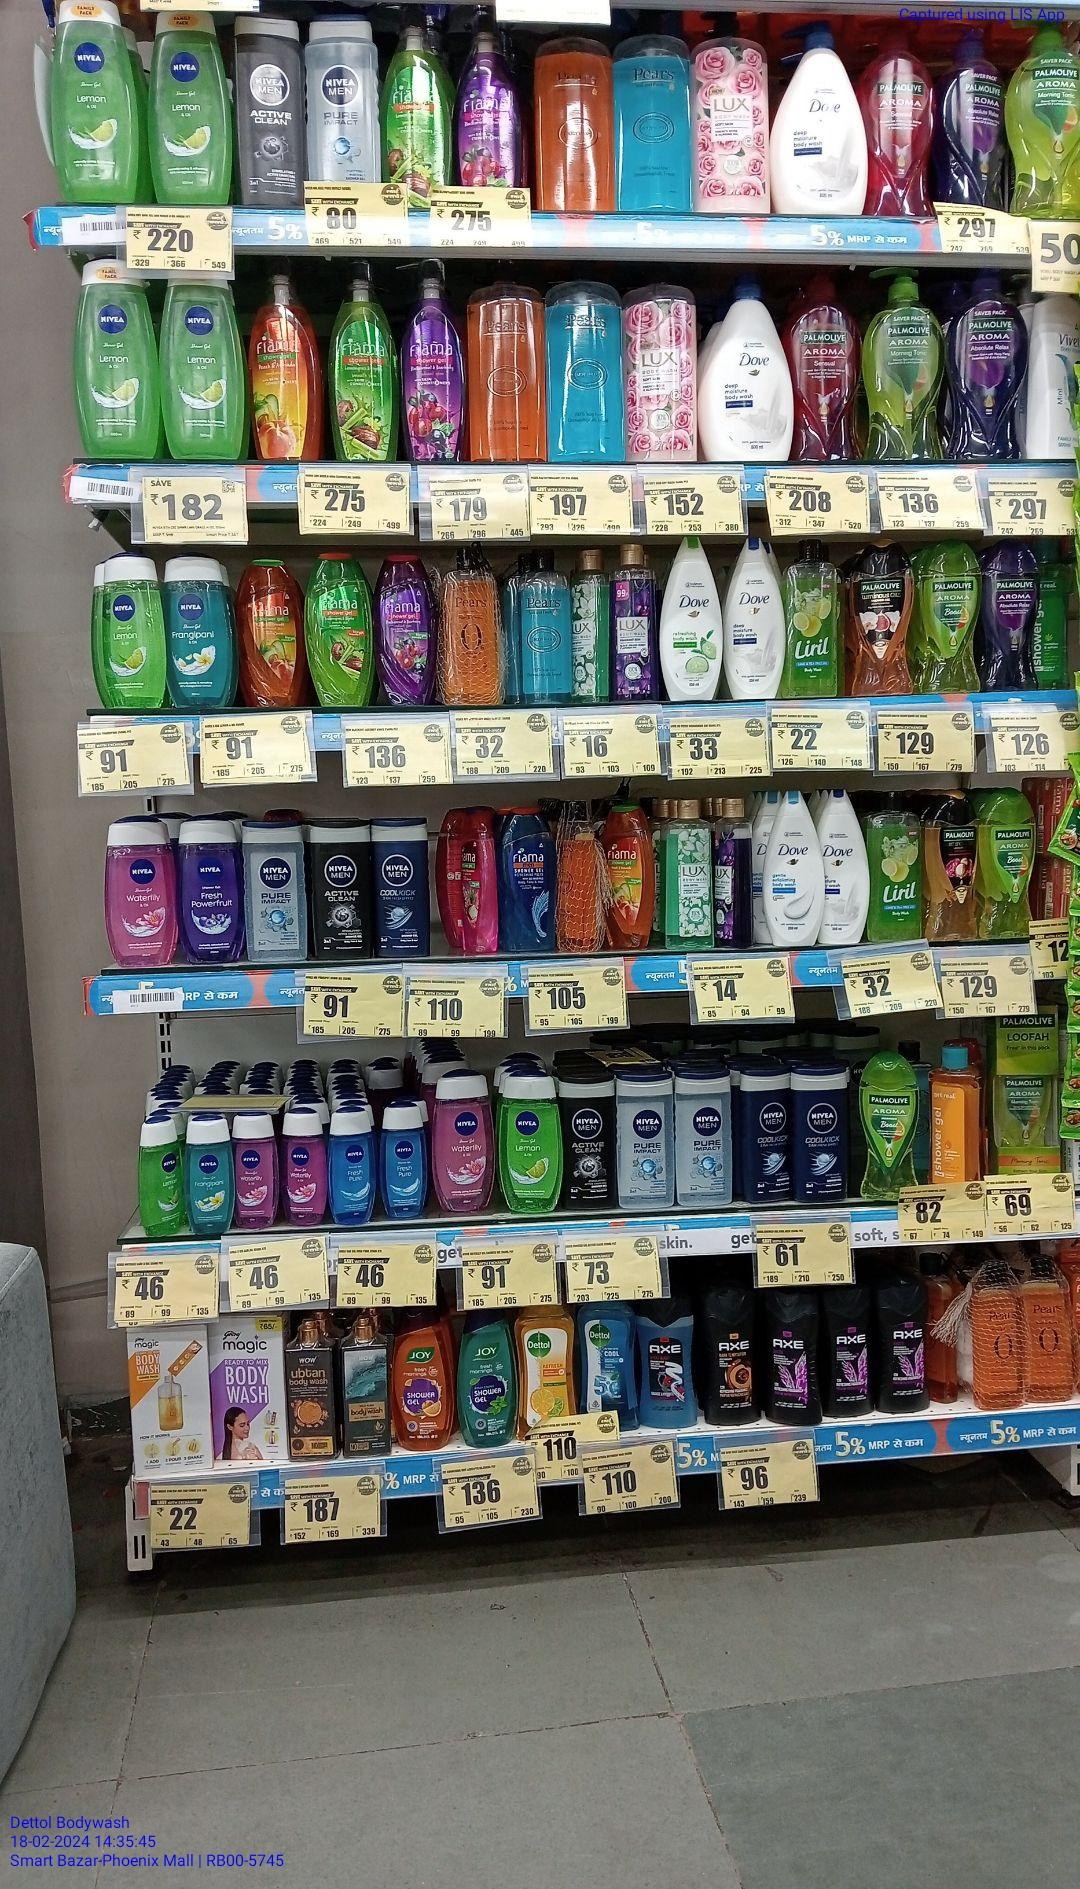Dettol_Bodywash_Cool: (576, 1303, 640, 1432)
Dettol_Bodywash_Refresh: (521, 1304, 574, 1428)
Dove_Deep_Moisture_Body_Wash_250ML: (726, 535, 784, 699)
Dove_Gentle_Exfoliating_Body_Wash_250ML: (765, 782, 824, 947)
Dove_Refreshing_Body_Wash_250ML: (661, 532, 723, 702)
Fiama_Shower_Gel_Lemongrass_and_Jojoba_250ML: (308, 553, 373, 704)
Fiama_Shower_Gel_Peach_and_Avocado_250ML: (235, 560, 302, 712), (601, 804, 650, 950)
Joy_Shower_Gel_Mandarin_and_Lemongrass_250ML: (393, 1309, 450, 1453)
Joy_Shower_Gel_Mint_and_Eucalyptus_250ML: (458, 1312, 515, 1449)
Liril_Cooling_Mint_Body_Wash_250ML: (872, 793, 920, 943)
Liril_Lime_and_Tea_Tree_Oil_Body_Wash_250ML: (788, 541, 835, 697)
Lux_Black_Orchid_Scent_and_Juniper_Oil_Body_Wash_245ML: (613, 542, 654, 699), (720, 793, 754, 948)
Lux_Body_Wash_Skin_Detox_Freesia_Scent_and_Alove_Vera_245ML: (665, 797, 718, 950), (576, 545, 607, 703)
Nivea_Shower_Gel_Frangipani_and_Oil_250ML: (170, 553, 232, 706)
Nivea_Shower_Gel_Fresh_Powerfruit_250ML: (178, 817, 241, 967)
Nivea_Shower_Gel_Lemon_and_Oil_250ML: (55, 0, 141, 211), (71, 254, 154, 462), (160, 276, 249, 462), (151, 8, 230, 205), (105, 553, 165, 710), (500, 1065, 563, 1207)
Nivea_Shower_Gel_Waterlily_and_Oil_250ML: (105, 817, 174, 965), (432, 1069, 495, 1210)
Palmolive_Aroma_Morning_Tonic_Shower_Gel_250ML: (920, 538, 979, 695), (980, 789, 1037, 939), (862, 1057, 920, 1200)
Palmolive_Aroma_Relax_250ML: (983, 544, 1036, 690)
Palmolive_Luminous_Oils_Invigorating_Macadamia_Oil_With_Peony_250ML: (926, 789, 977, 943)
Palmolive_Luminous_Oils_With_White_Orchid_Shower_Gel_250ML: (846, 538, 913, 695)
Pears_Pure_Glycerin_and_Mint_Extracts_Body_Wash_250ML: (521, 547, 575, 704)
